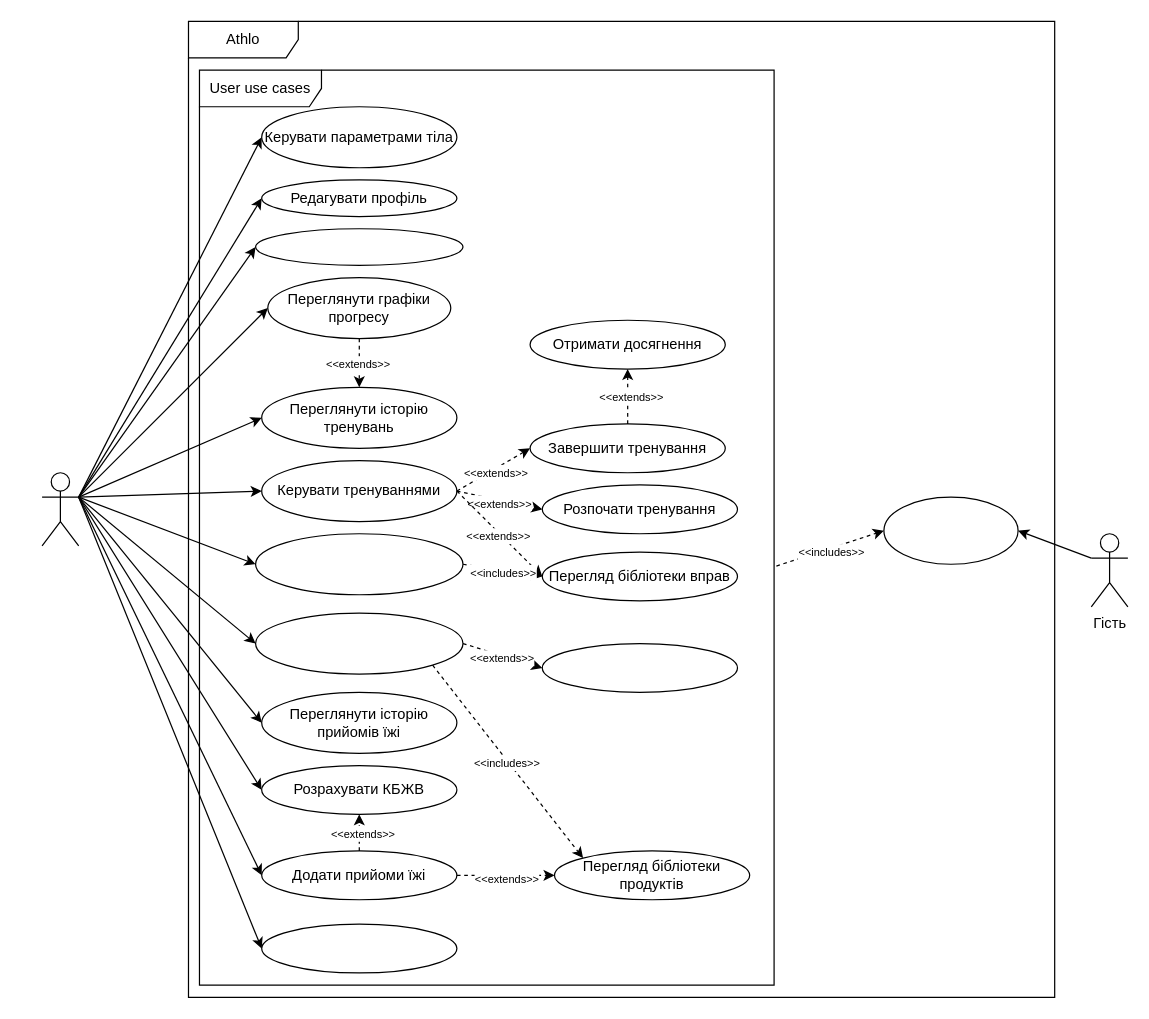
Some shapes in this 1149 by 1019 pixel diagram are drawn without their labels. Each missing label, with the centre of its shape:
"Активувати план" belongs at [639,667].
"Керувати друзями" belongs at [358,246].
"Керувати планами харчування" belongs at [358,643].
"Керувати шаблонами тренувань" belongs at [358,564].
"Користувач" belongs at [60,509].
"Логувати споживання води" belongs at [358,948].
"Реєстрація та Автентифікація" belongs at [950,530].
